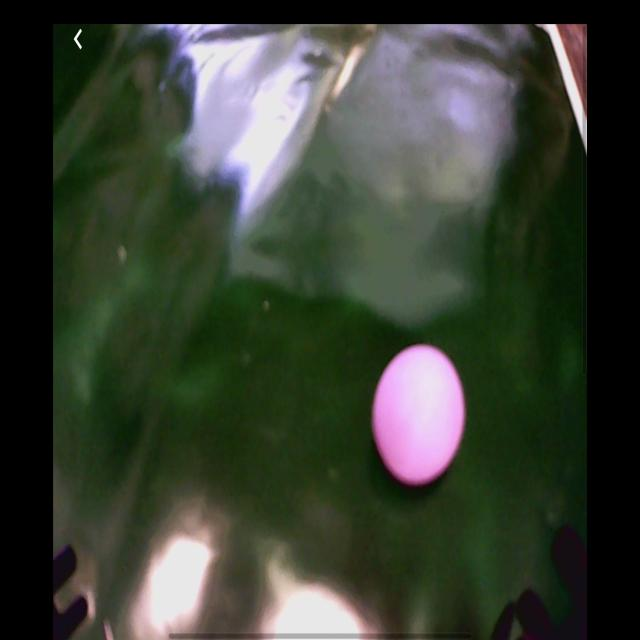ball: (371, 343, 466, 486)
